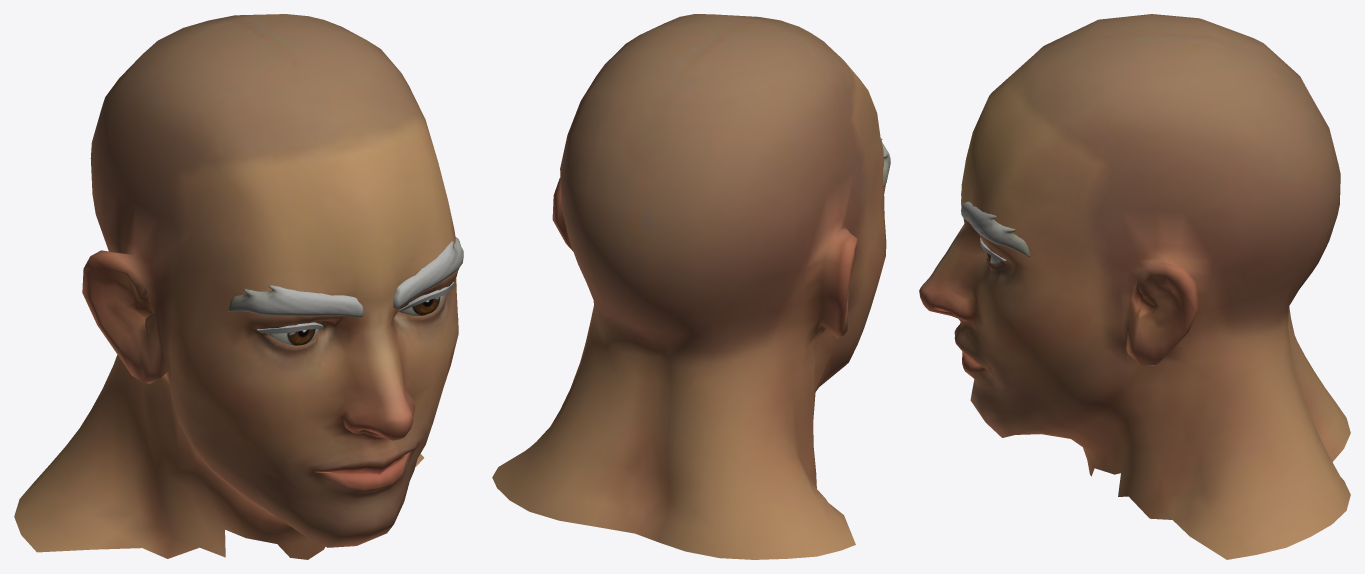
File: Male_Head.glb
3 views of the same model, side by side, from view 1: azimuth 30°, elevation 25°; view 2: azimuth 150°, elevation 25°; view 3: azimuth 270°, elevation 25° (orthographic). The views are drawn at different scales.
Parts seen in each view (by area): view 1: Quaternius Male Head; view 2: Quaternius Male Head; view 3: Quaternius Male Head.
Part boxes in pixels (left/top/right/bottom): Quaternius Male Head: left=14, top=14, right=463, bottom=559; Quaternius Male Head: left=492, top=14, right=890, bottom=559; Quaternius Male Head: left=919, top=14, right=1350, bottom=559.
Size of the model in its own units: 0.2104 by 0.258 by 0.2287.
3 materials, 3 textured.
